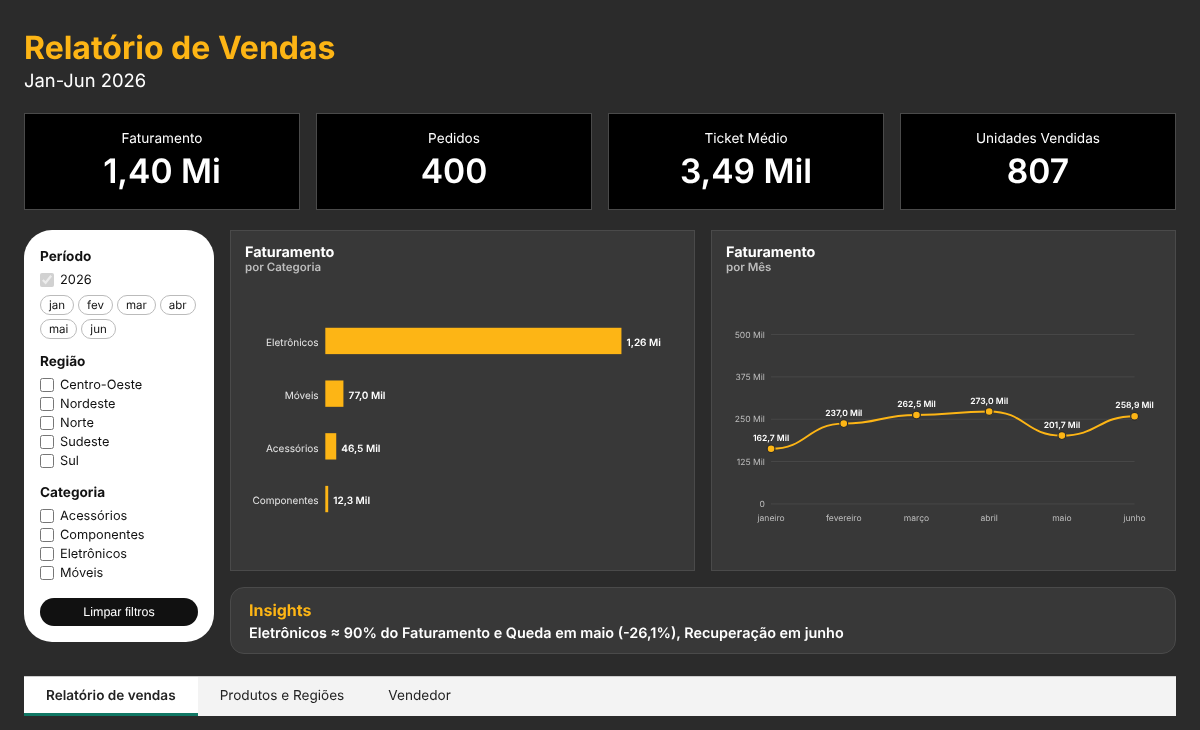

Layout of this report page (visuals, bound fields, positions):
{"tool":"powerbi","page":{"name":"Relatório de vendas","canvas":[1920,1080],"ordinal":0},"visuals":[{"type":"group","id":"g1","title":"Grupo 2","box":[56.5,406.5,219.6,556.5],"z":0},{"type":"shape","box":[308.7,926.2,1572.6,117.3],"z":0,"group":"g3"},{"type":"cardVisual","fields":{"Data":["vendas.Faturamento total"]},"box":[56.5,165.2,391.3,193.5],"z":1000},{"type":"lineChart","title":"Faturamento ","fields":{"Category":["vendas.data_pedido.Variation.Hierarquia de datas.Mês"],"Y":["vendas.Faturamento total"]},"box":[1161.6,407.5,672.5,449.1],"z":1000,"group":"g2"},{"type":"textbox","box":[331.3,948.8,889.2,94.7],"z":1000,"group":"g3"},{"type":"textbox","box":[0,17.4,606.5,84.8],"z":2000,"group":"g4"},{"type":"cardVisual","fields":{"Data":["vendas.Ticket Médio"]},"box":[963,165.2,406.5,193.5],"z":2000},{"type":"shape","box":[56.5,406.5,219.6,556.5],"z":2000,"group":"g1"},{"type":"cardVisual","fields":{"Data":["vendas.Pedidos"]},"box":[502.2,165.2,395.7,193.5],"z":3000},{"type":"barChart","title":"Faturamento ","fields":{"Category":["produtos.categoria"],"Y":["vendas.Faturamento total"]},"box":[448.7,407.5,646.9,449.1],"z":3000,"group":"g2"},{"type":"cardVisual","fields":{"Data":["vendas.Unidades Vendidas"]},"box":[1432.6,165.2,406.5,193.5],"z":4000},{"type":"group","id":"g2","title":"Grupo 1","box":[448.7,407.5,1385.3,448.7],"z":5000},{"type":"group","id":"g3","title":"Grupo 3","box":[308.7,926.2,1572.6,117.3],"z":6000},{"type":"group","id":"g4","title":"Grupo 4","box":[0,17.4,606.5,147.8],"z":7000},{"type":"textbox","box":[32.6,84.8,358.7,80.4],"z":7000,"group":"g4"},{"type":"slicer","fields":{"Values":["clientes.regiao"]},"box":[80.4,524.3,171.4,224.3],"z":8000,"group":"g1"},{"type":"slicer","fields":{"Values":["produtos.categoria"]},"box":[81.5,765.8,155.3,182.4],"z":9000,"group":"g1"},{"type":"slicer","fields":{"Values":["vendas.data_pedido.Variation.Hierarquia de datas.Ano"]},"box":[79.7,432.3,155.3,73.7],"z":10000,"group":"g1"}]}

Visuals, with their boxes on the page's 1920x1080 design canvas (x1, y1, x2, y2). These are canvas units, not pixel positions in the 1200x730 screenshot, which may show the page scaled, cropped or inside an application window:
"Grupo 2" group: bbox(56, 406, 276, 963)
shape: bbox(309, 926, 1881, 1044)
cardVisual - vendas.Faturamento total: bbox(56, 165, 448, 359)
"Faturamento " lineChart: bbox(1162, 408, 1834, 857)
textbox: bbox(331, 949, 1220, 1044)
textbox: bbox(0, 17, 606, 102)
cardVisual - vendas.Ticket Médio: bbox(963, 165, 1370, 359)
shape: bbox(56, 406, 276, 963)
cardVisual - vendas.Pedidos: bbox(502, 165, 898, 359)
"Faturamento " barChart: bbox(449, 408, 1096, 857)
cardVisual - vendas.Unidades Vendidas: bbox(1433, 165, 1839, 359)
"Grupo 1" group: bbox(449, 408, 1834, 856)
"Grupo 3" group: bbox(309, 926, 1881, 1044)
"Grupo 4" group: bbox(0, 17, 606, 165)
textbox: bbox(33, 85, 391, 165)
slicer - clientes.regiao: bbox(80, 524, 252, 749)
slicer - produtos.categoria: bbox(82, 766, 237, 948)
slicer - vendas.data_pedido.Variation.Hierarquia de datas.Ano: bbox(80, 432, 235, 506)
